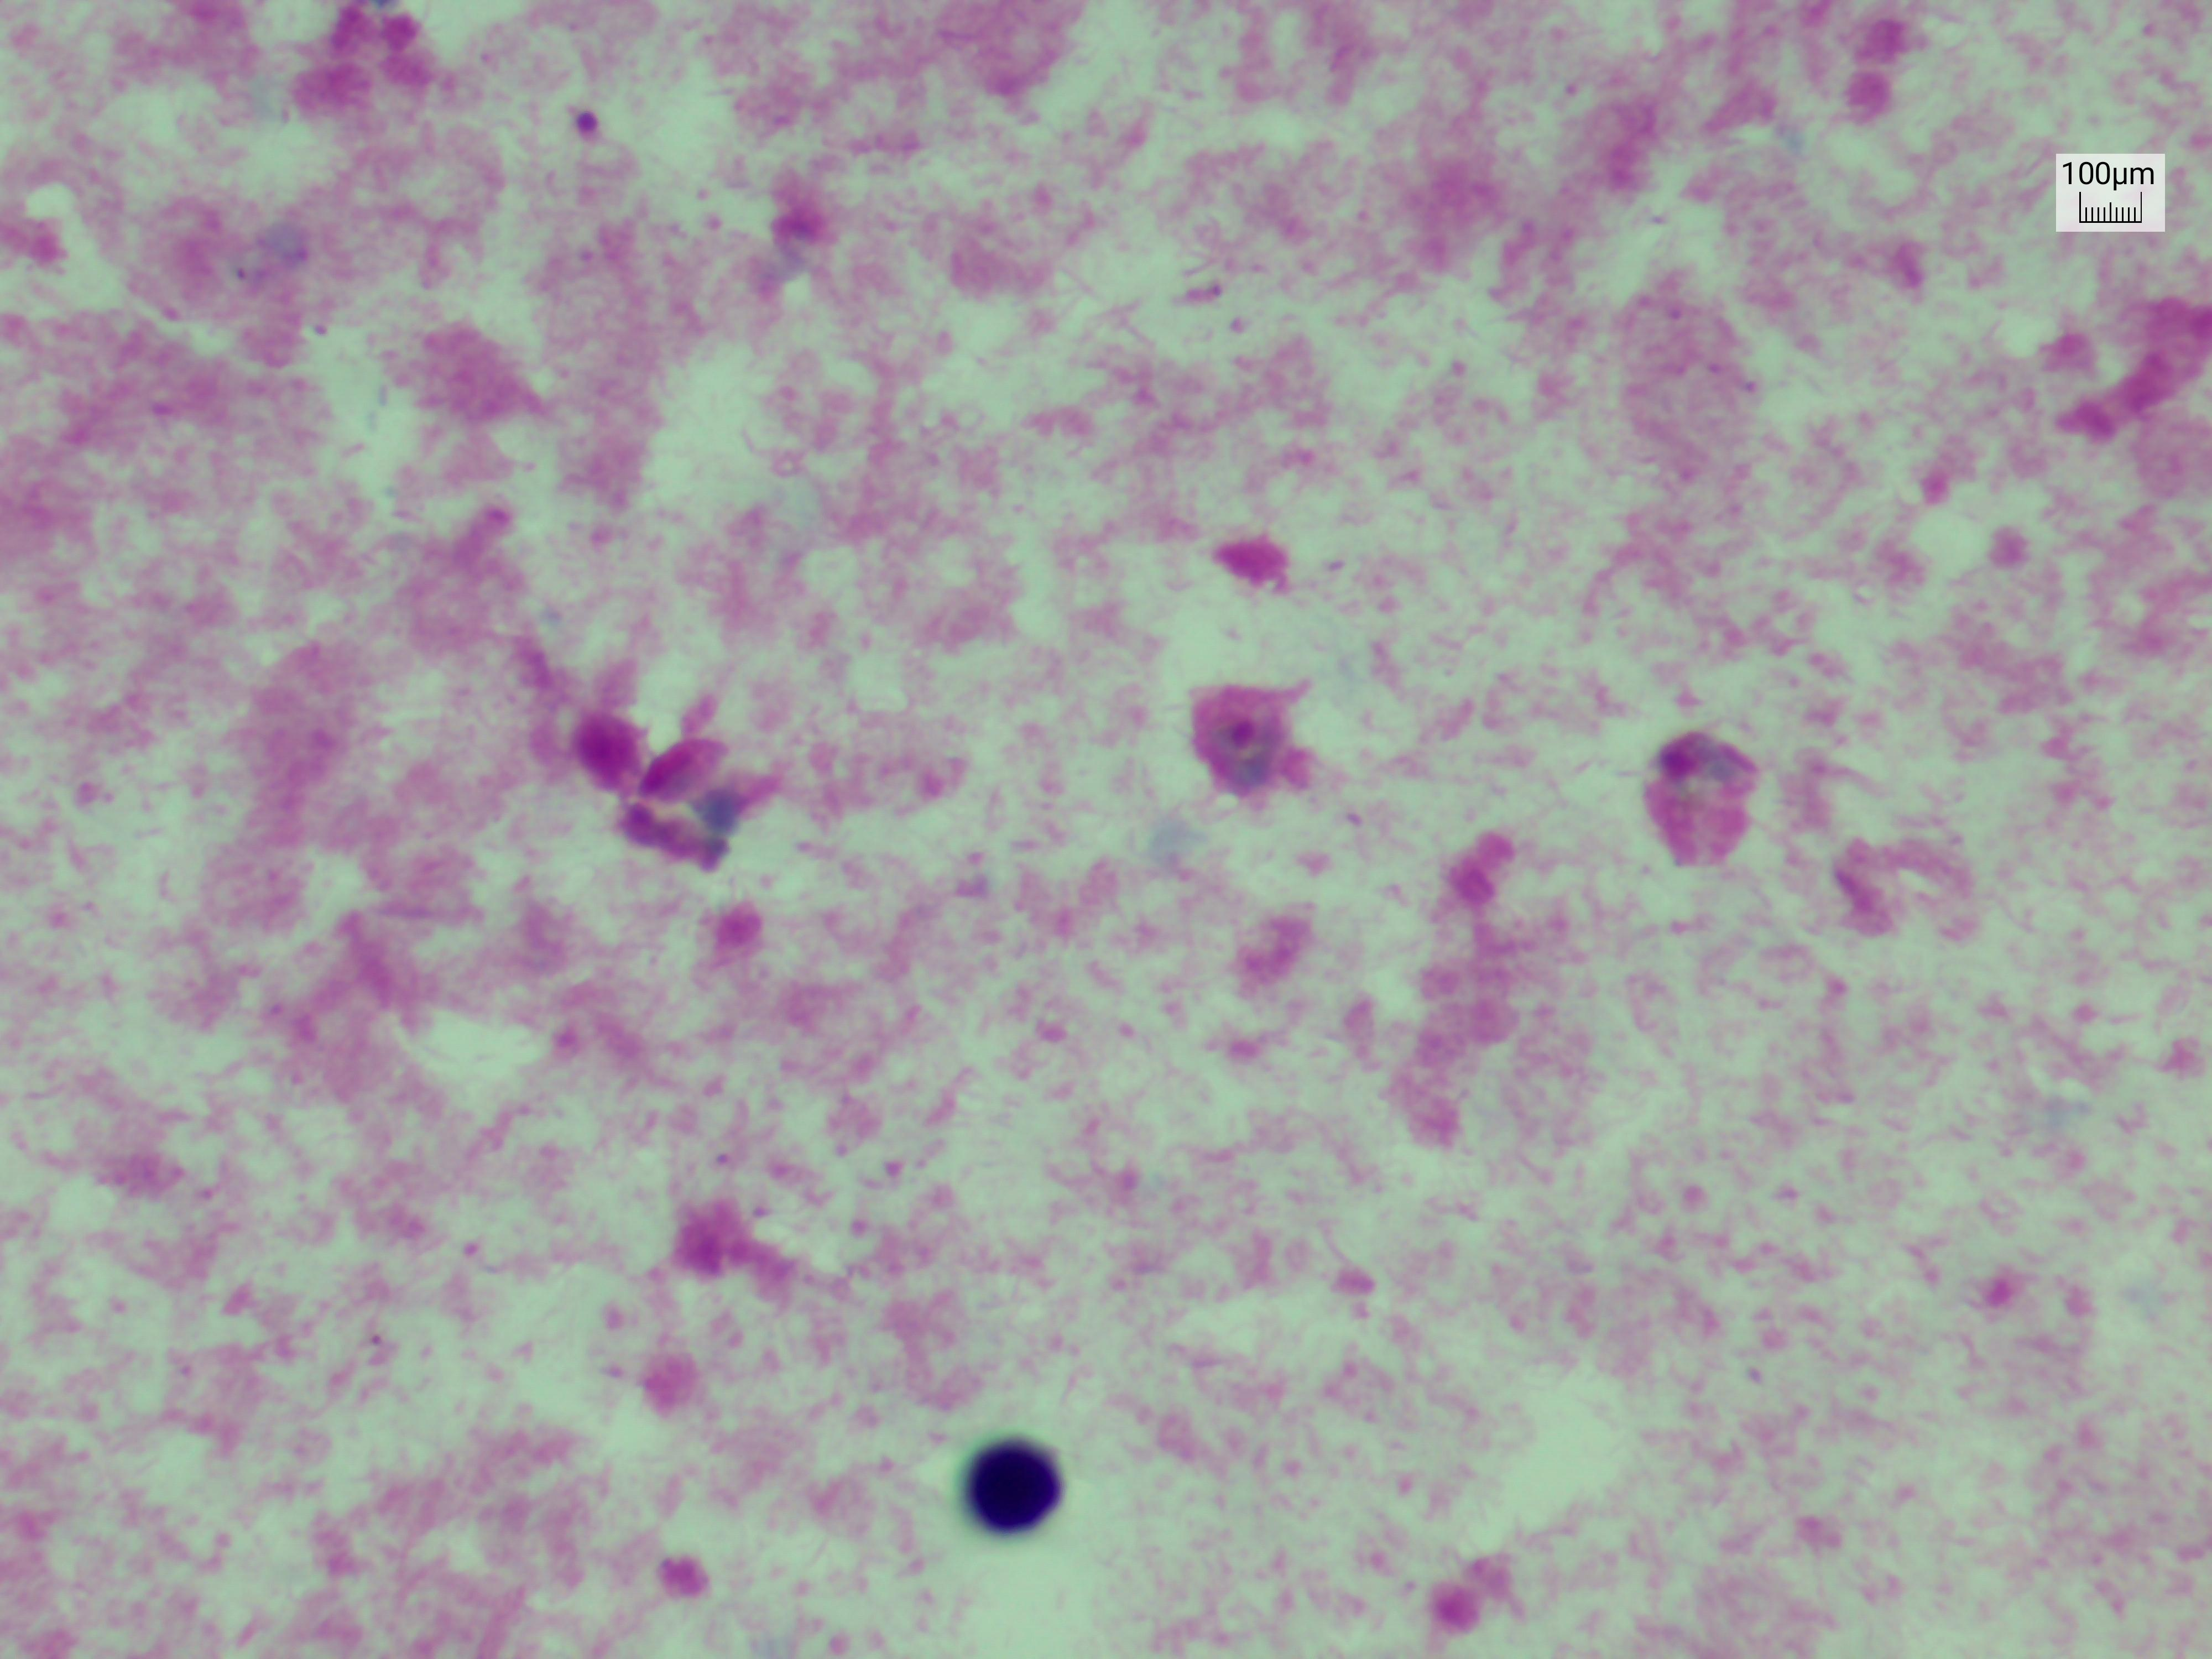p.vivax: (1177, 662, 1332, 852), (1637, 706, 1763, 899), (744, 183, 834, 322), (202, 207, 331, 298)
